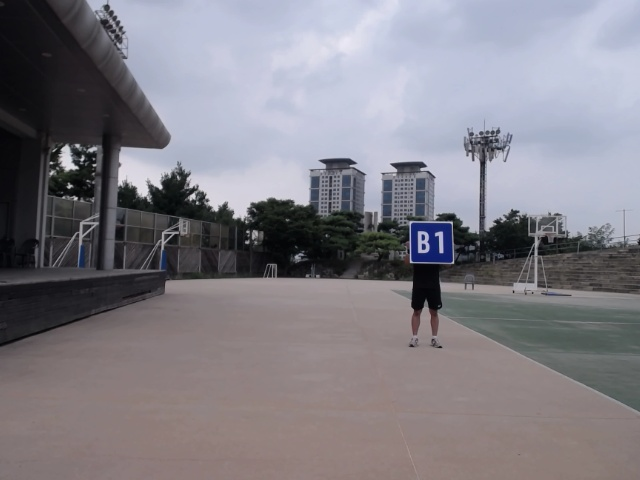delivery_b1: (409, 220, 454, 264)
